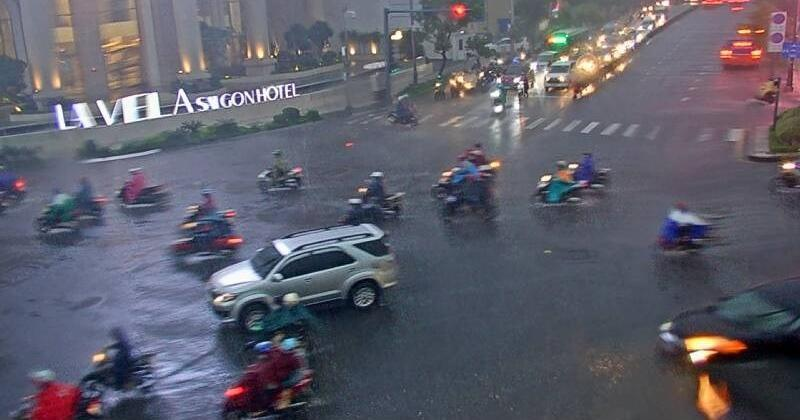xe hoi: (207, 222, 396, 336)
